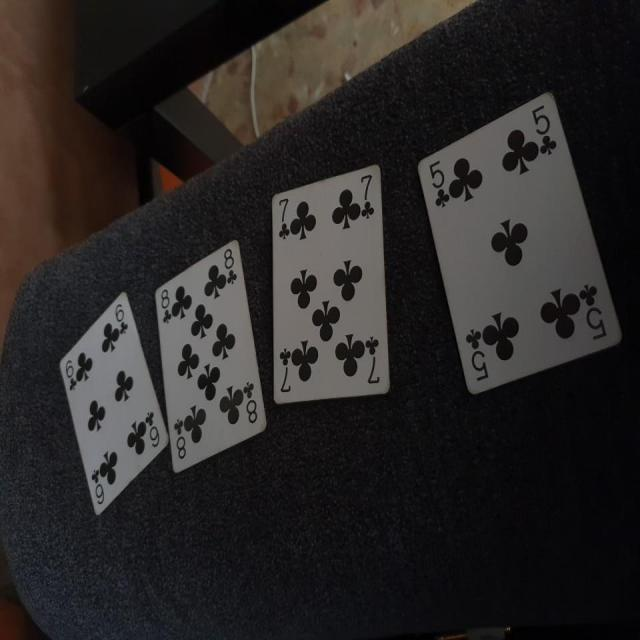5 Trefoils: (416, 89, 625, 396)
6 Trefoils: (56, 290, 169, 517)
7 Trefoils: (271, 162, 392, 404)
8 Trefoils: (153, 240, 267, 473)
